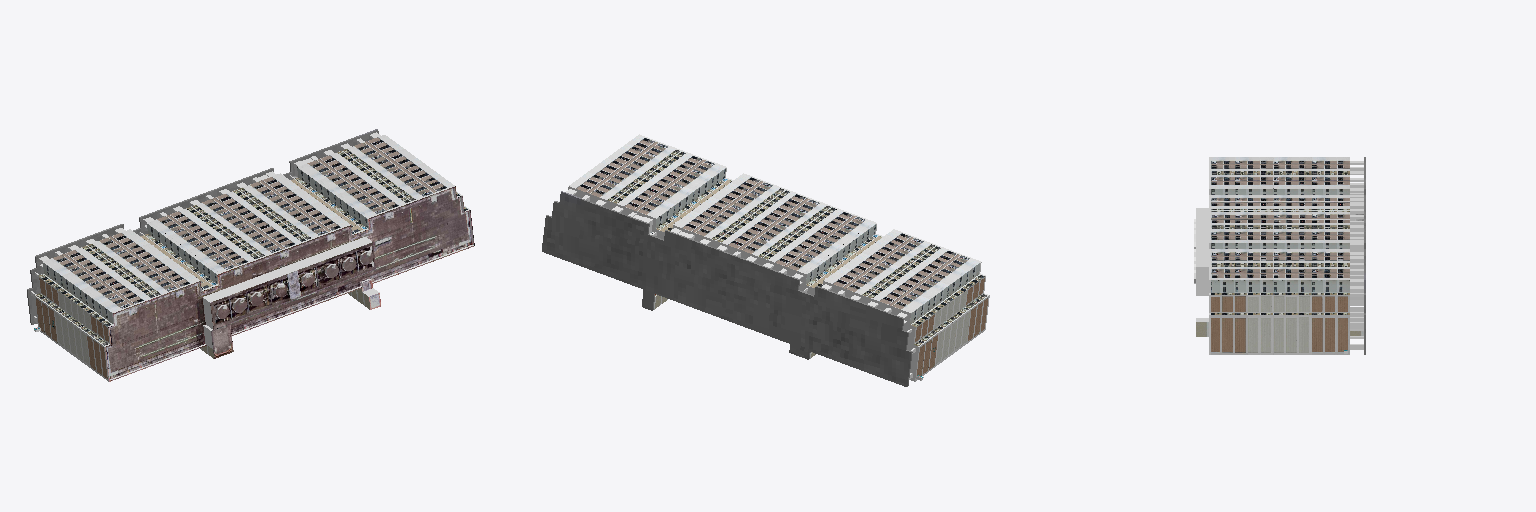
3 renders of one model, left to right at view 1: azimuth 30°, elevation 25°; view 2: azimuth 150°, elevation 25°; view 3: azimuth 270°, elevation 25°, orthographic.
Parts seen in each view (by area): view 1: polygon.838; view 2: polygon.838; view 3: polygon.838.
Part boxes in pixels (left/top/right/bottom): polygon.838: left=27, top=129, right=474, bottom=381; polygon.838: left=542, top=134, right=989, bottom=386; polygon.838: left=1194, top=157, right=1365, bottom=354.
Size of the model in its own units: 96.48 by 27.33 by 38.27.
1 materials, 1 textured.